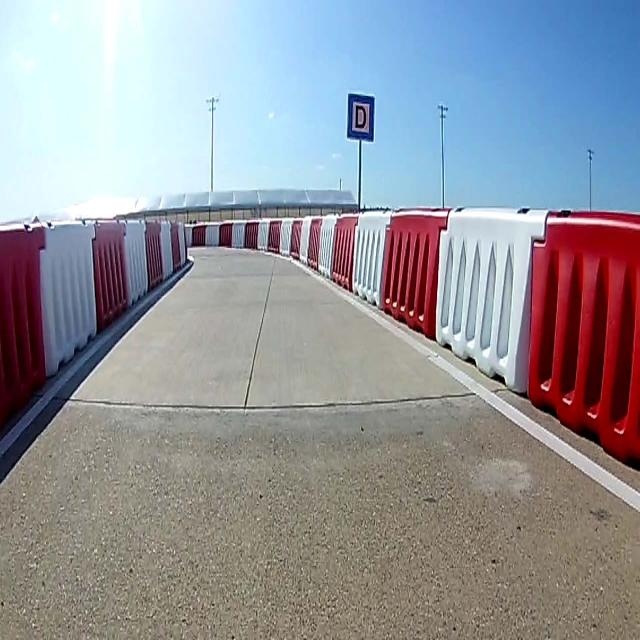durak: (346, 91, 376, 140)
